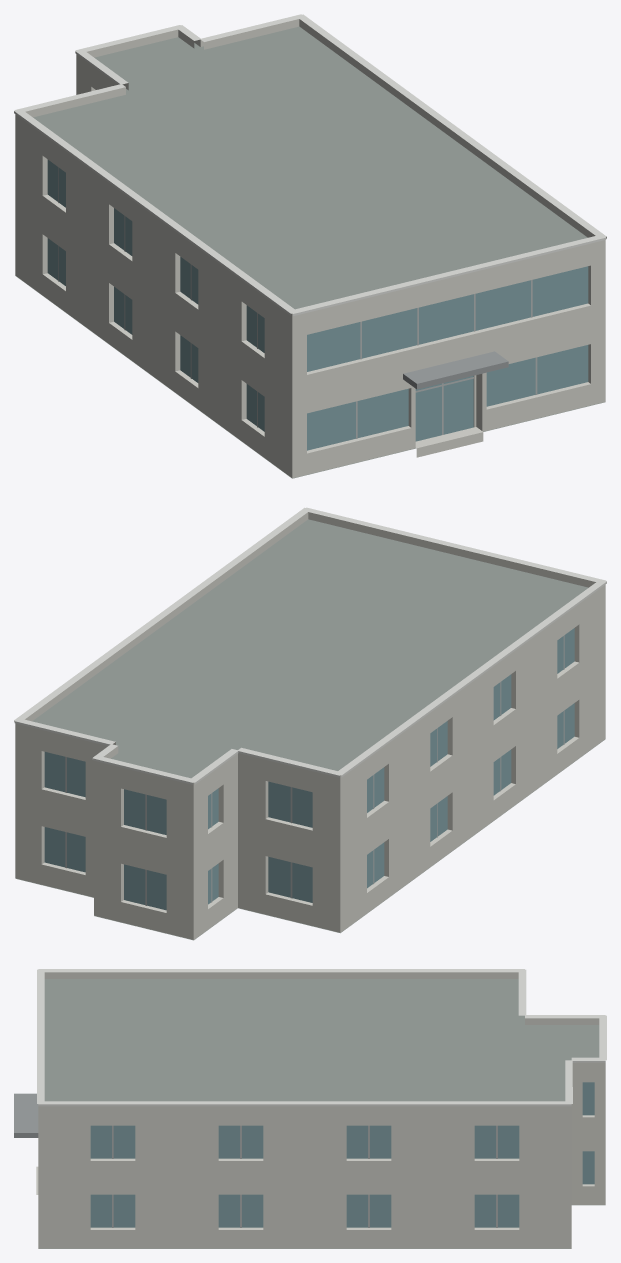
The picture shows the model from 3 angles, top to bottom: view 1: azimuth 30°, elevation 25°; view 2: azimuth 150°, elevation 25°; view 3: azimuth 270°, elevation 25°; orthographic projection. The views are drawn at different scales.
Parts seen in each view (by area): view 1: osm761589250__roof, osm761589250__wall, osm761589250__glass, osm761589250__trim, osm761589250__parapet, osm761589250__canopy, osm761589250__frame, osm761589250__entranceThreshold_0; view 2: osm761589250__roof, osm761589250__wall, osm761589250__glass, osm761589250__trim, osm761589250__parapet, osm761589250__frame; view 3: osm761589250__wall, osm761589250__roof, osm761589250__glass, osm761589250__trim, osm761589250__parapet, osm761589250__canopy, osm761589250__frame.
Boxes of the visible parts, x1,y1,x2,y2 form: osm761589250__roof: (16,26,605,478); osm761589250__wall: (15,58,605,478); osm761589250__glass: (47,159,588,450); osm761589250__trim: (14,14,606,315); osm761589250__parapet: (15,19,605,320); osm761589250__canopy: (403,351,508,389); osm761589250__frame: (58,167,537,438); osm761589250__entranceThreshold_0: (415,427,483,457); osm761589250__roof: (15,519,605,940); osm761589250__wall: (15,589,605,939); osm761589250__glass: (44,628,574,910); osm761589250__trim: (14,507,606,784); osm761589250__parapet: (15,512,605,789); osm761589250__frame: (65,635,564,905); osm761589250__wall: (38,1067,605,1248); osm761589250__roof: (38,979,605,1248); osm761589250__glass: (90,1082,594,1227); osm761589250__trim: (37,969,606,1106); osm761589250__parapet: (38,972,605,1110); osm761589250__canopy: (14,1093,38,1137); osm761589250__frame: (112,1125,497,1227).
Size of the model in its own units: 15.15 by 7.95 by 28.05.
